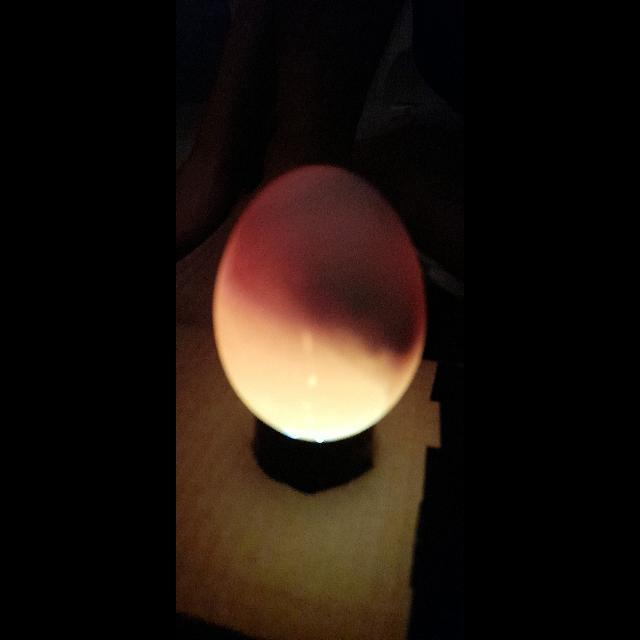Infertile: (204, 162, 428, 442)
